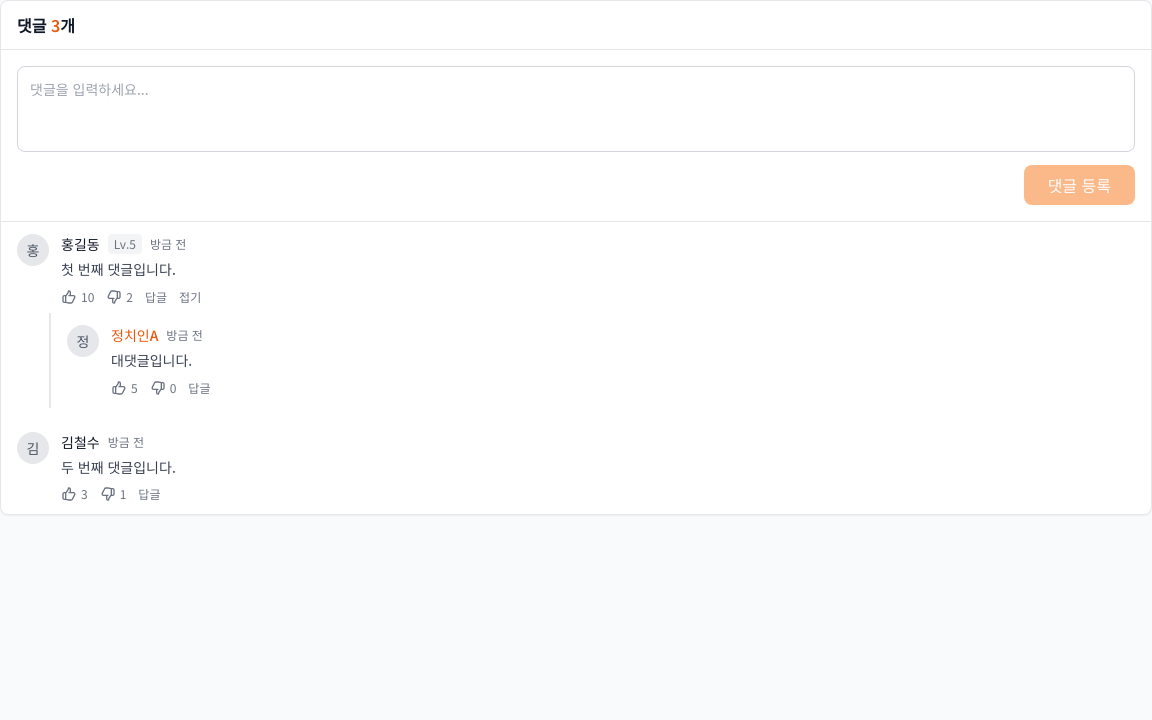
Test: CommentThread Component › Reply Functionality › should toggle reply form when clicking reply button
Click the button "답글" below "첫 번째 댓글입니다.". click: click(156, 297)
box: [145,289,167,305]
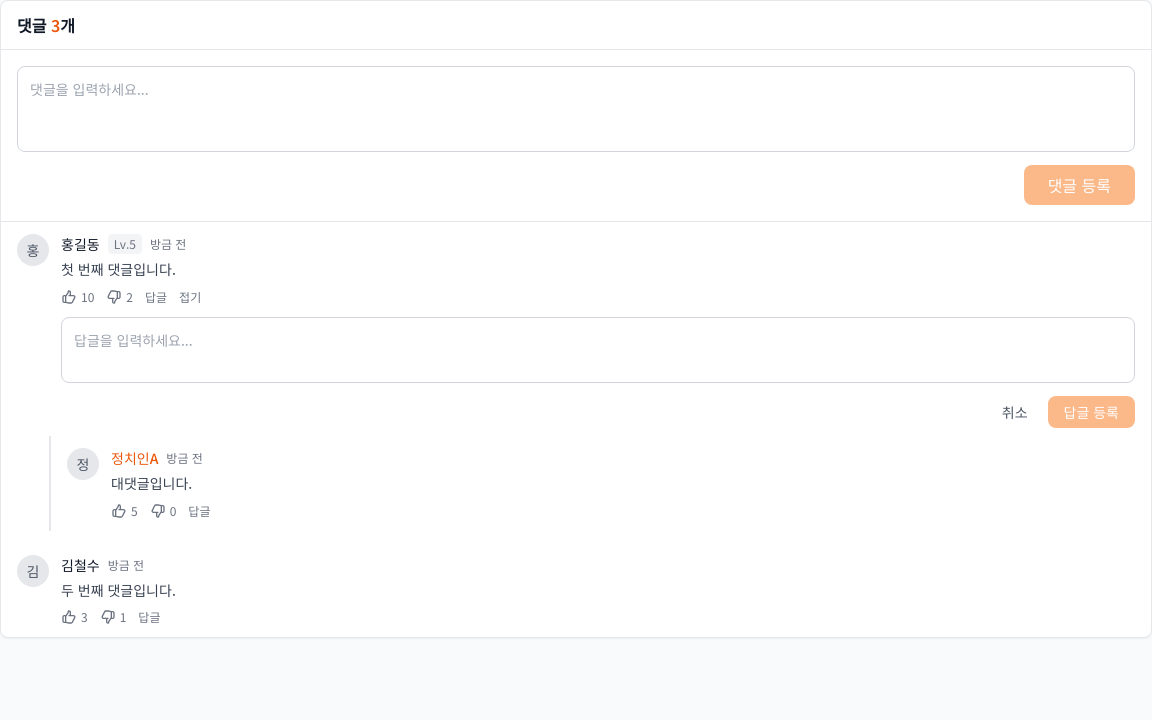
Check: the text box with placeholder "답글을 입력하세요..." is shown, box [61,317,1135,383]
